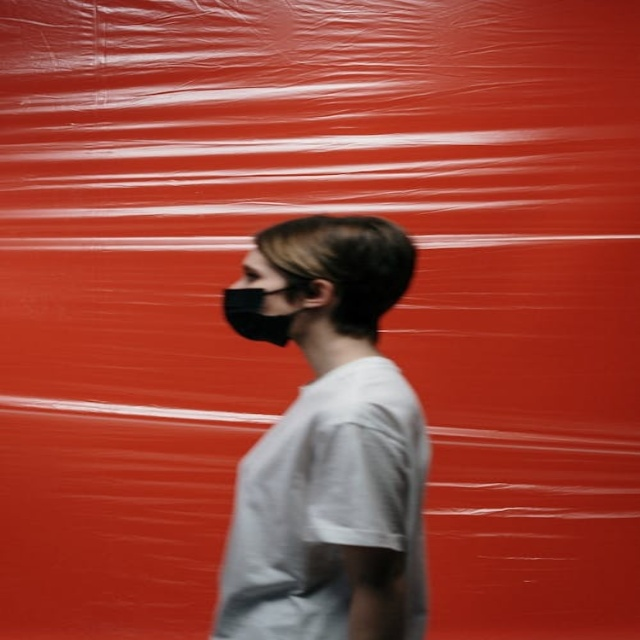Mascara: (223, 286, 302, 347)
Sin_gafas: (238, 257, 279, 283)
